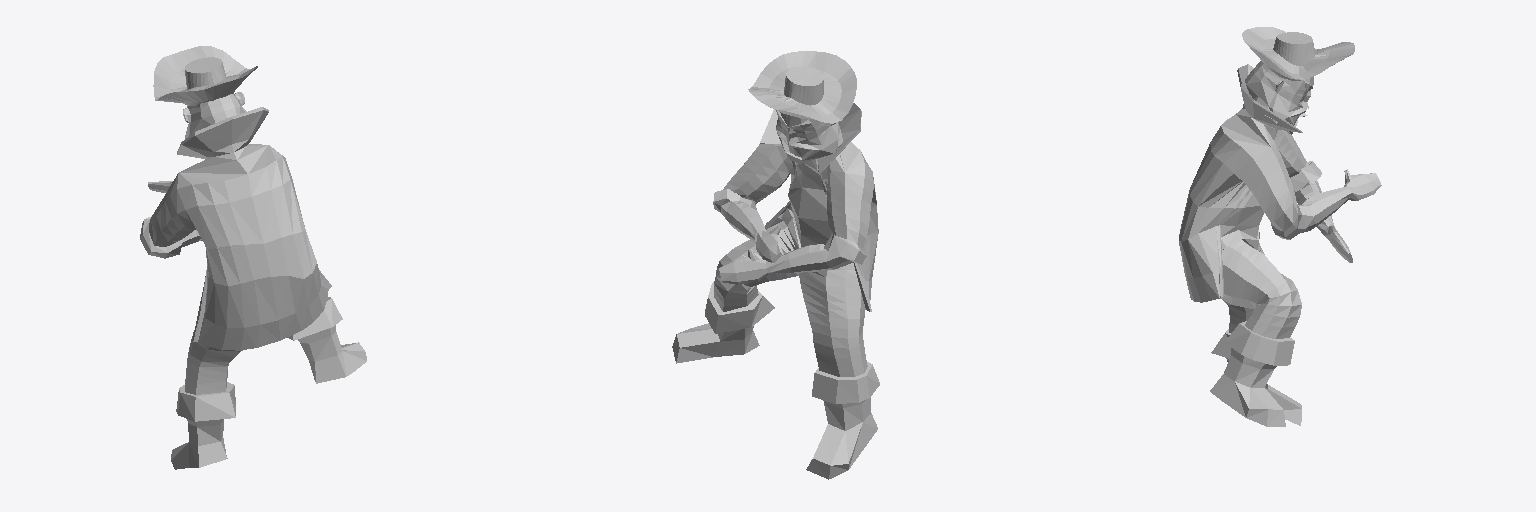
Rendered from pirata_000120.obj.
3 views of the same model, side by side, from view 1: azimuth 30°, elevation 25°; view 2: azimuth 150°, elevation 25°; view 3: azimuth 270°, elevation 25° (orthographic).
Visible parts, largest first — view 1: Pirata_PirataH; view 2: Pirata_PirataH; view 3: Pirata_PirataH.
Boxes of the visible parts, x1,y1,x2,y2 form: Pirata_PirataH: [140, 46, 366, 469]; Pirata_PirataH: [672, 51, 879, 479]; Pirata_PirataH: [1179, 27, 1381, 426].
Size of the model in its own units: 5.23 by 9.74 by 4.49.